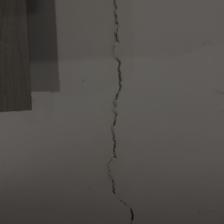Medium: (87, 2, 145, 219)
